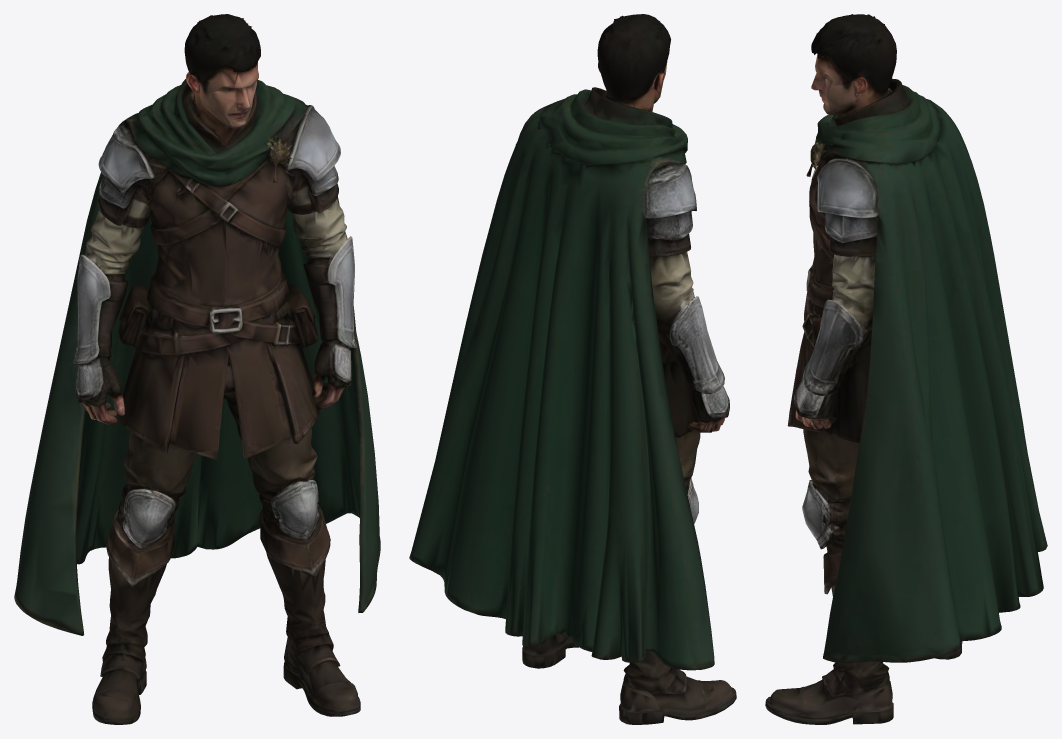
File: male_ai.glb
The picture shows the model from 3 angles, left to right: view 1: azimuth 30°, elevation 25°; view 2: azimuth 150°, elevation 25°; view 3: azimuth 270°, elevation 25°; orthographic projection. The views are drawn at different scales.
Parts seen in each view (by area): view 1: node_0; view 2: node_0; view 3: node_0.
Part boxes in pixels (left/top/right/bottom): node_0: left=14, top=14, right=380, bottom=724; node_0: left=409, top=14, right=736, bottom=724; node_0: left=765, top=14, right=1047, bottom=724.
Size of the model in its own units: 0.5593 by 1.11 by 0.434.
Materials: 1 (1 with a texture image).
